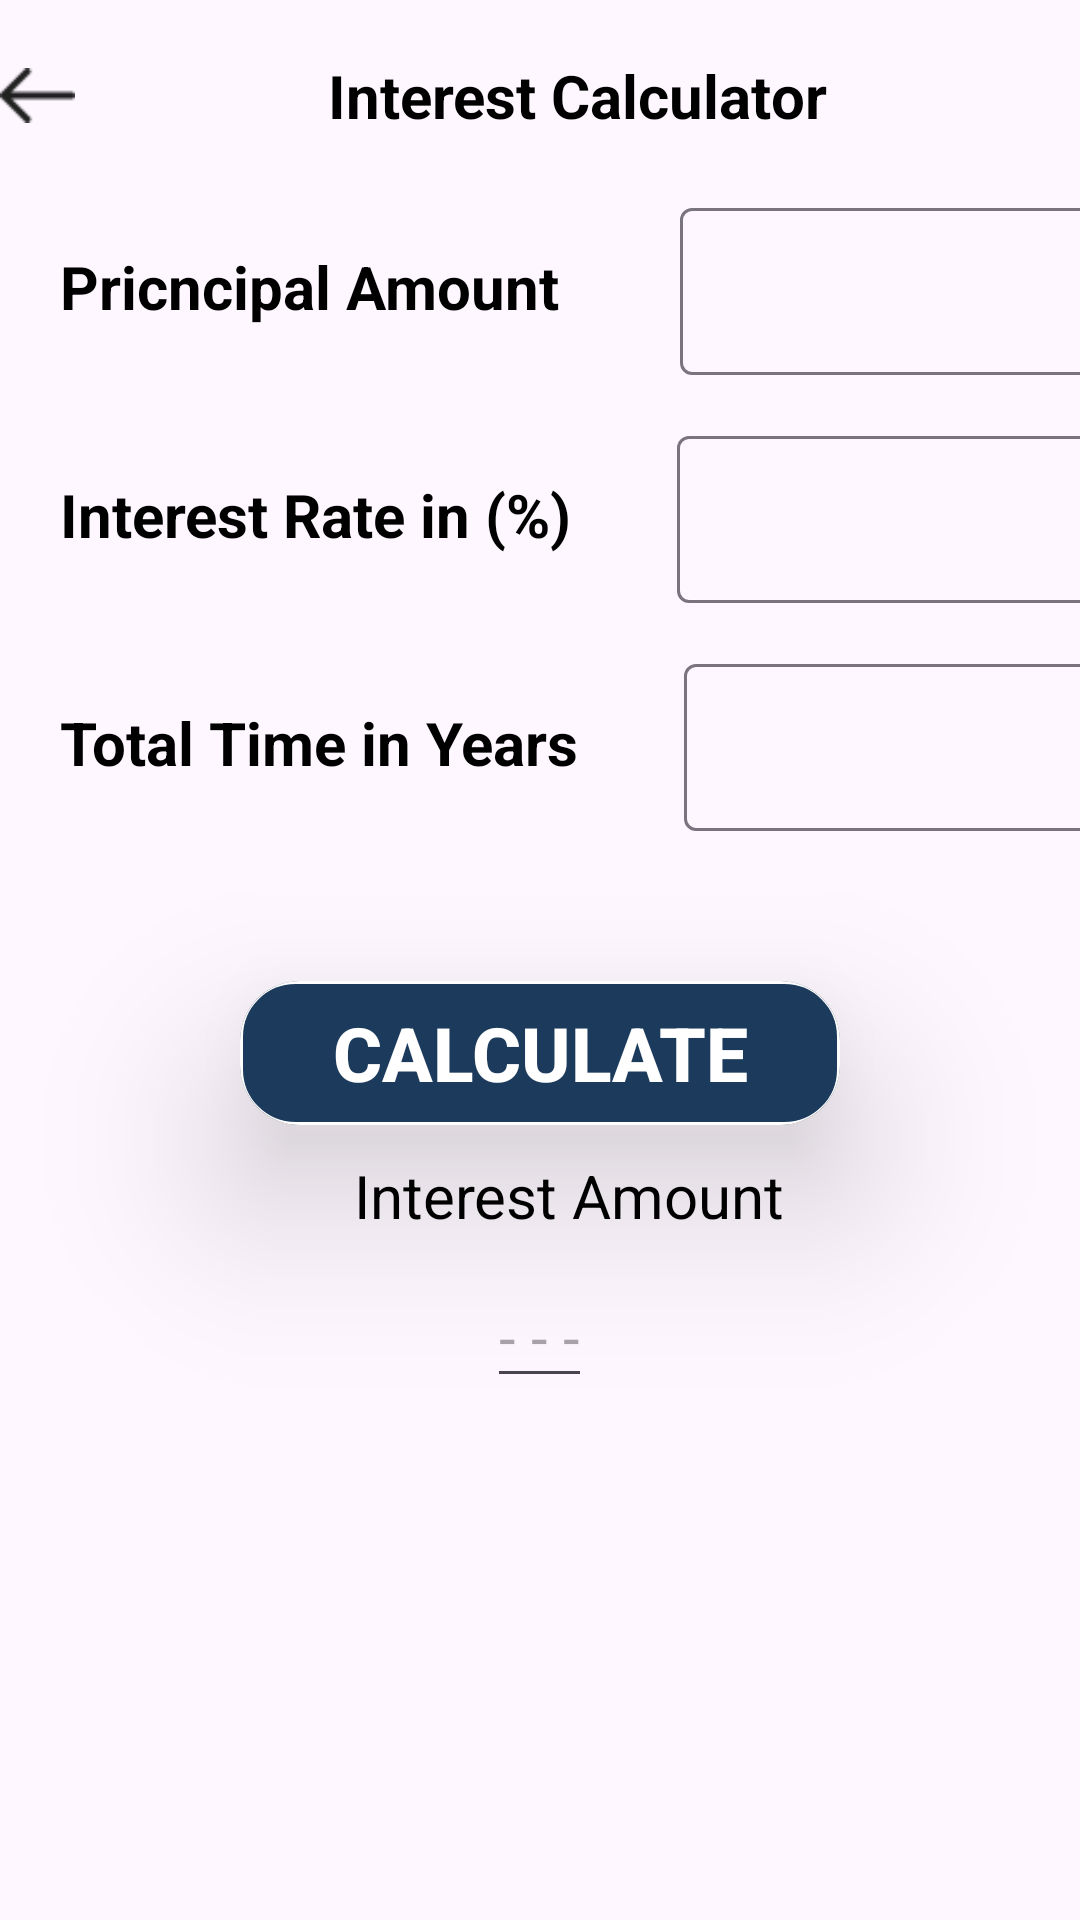

Icon bounding boxes for this 1080px x 1920px phone screenshot, format [x1=x1, y1=y1, x2=x2, y2=y2]:
backarro: [x1=0, y1=68, x2=75, y2=123]
